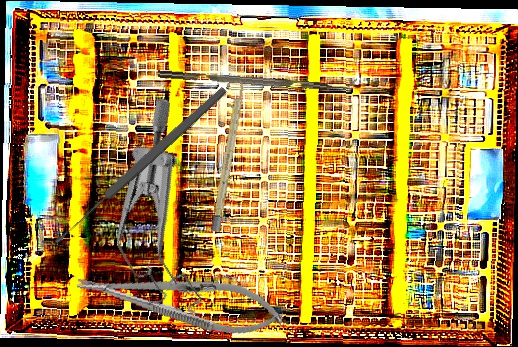Chopper: (157, 60, 358, 95)
Needle Holder: (73, 256, 287, 344)
Scalpel Handle: (210, 78, 247, 233)
Speculum: (61, 94, 268, 335)
Surgical Spoon: (50, 84, 230, 247)
